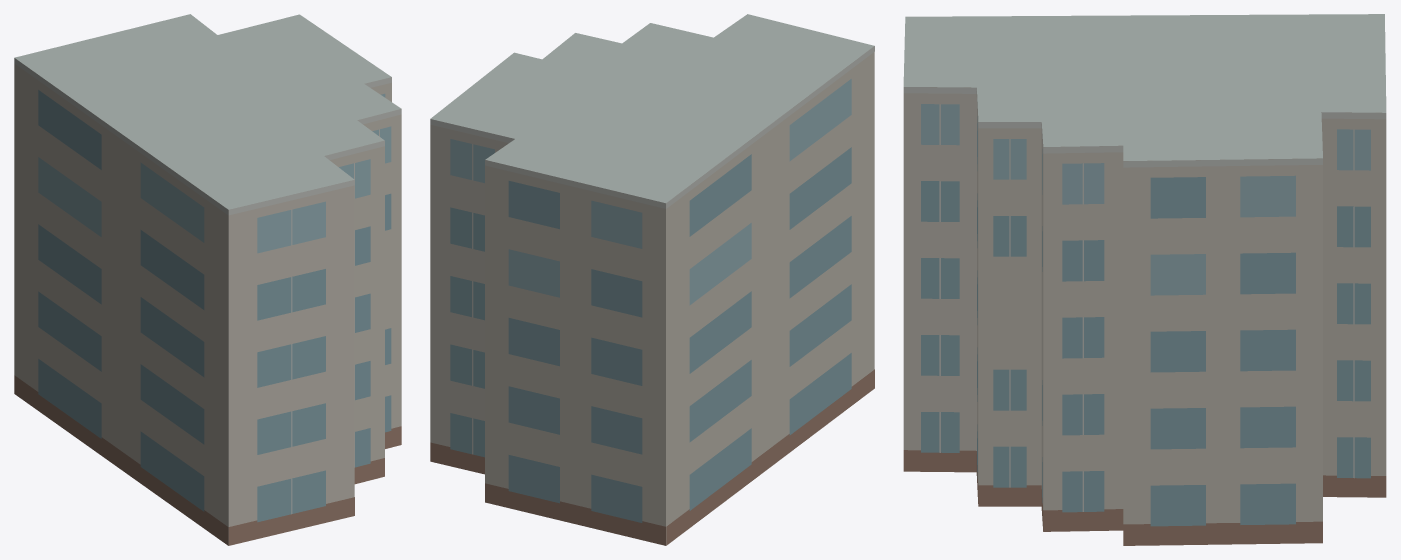
Rendered from survey-upis-32550169.glb.
3 renders of one model, left to right at view 1: azimuth 30°, elevation 25°; view 2: azimuth 150°, elevation 25°; view 3: azimuth 270°, elevation 25°, orthographic. The views are drawn at different scales.
Parts seen in each view (by area): view 1: survey-upis-32550169.tmp; view 2: survey-upis-32550169.tmp; view 3: survey-upis-32550169.tmp.
Boxes of the visible parts, x1,y1,x2,y2 form: survey-upis-32550169.tmp: (14,14,401,545); survey-upis-32550169.tmp: (430,14,874,545); survey-upis-32550169.tmp: (903,14,1386,545).
Size of the model in its own units: 11.94 by 14.55 by 16.56.
